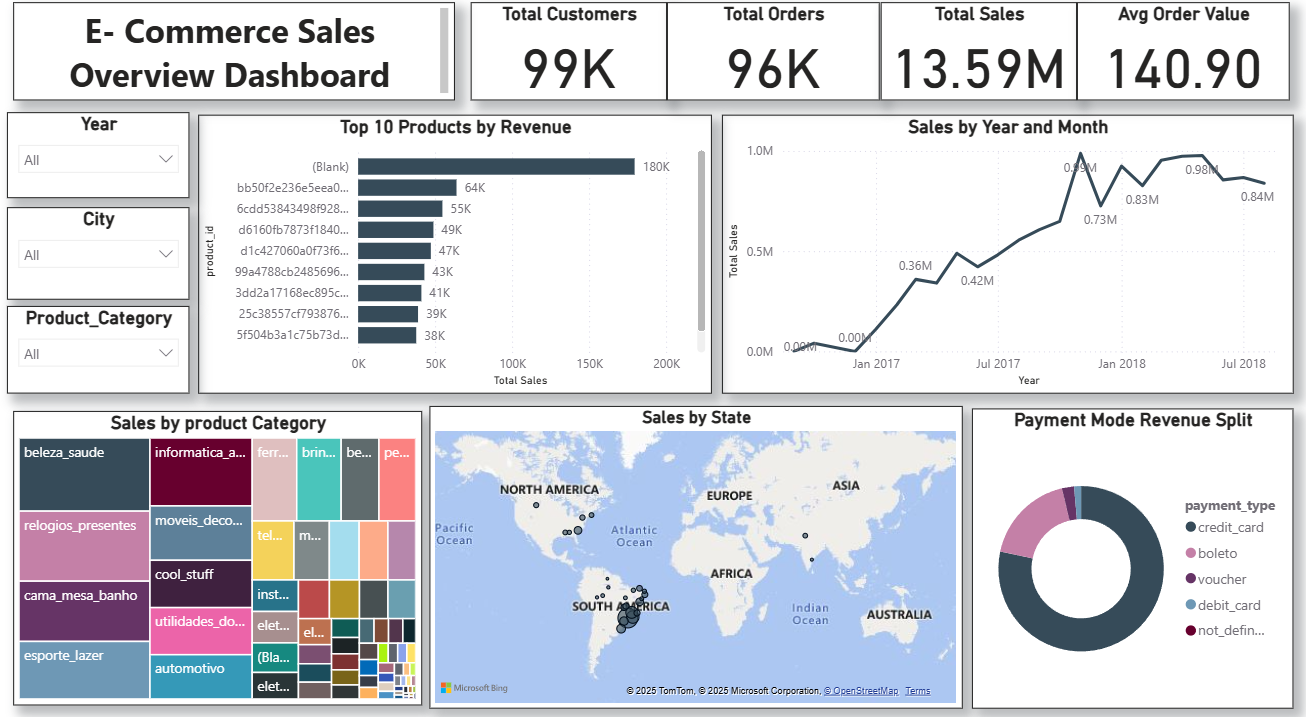

What the dashboard file says about the page in this screenshot:
{"tool":"powerbi","page":{"name":"Sales Overview","canvas":[1280,720],"ordinal":0},"visuals":[{"type":"card","title":"Total Customers","fields":{"Values":["olist_orders_dataset.Total Customers"]},"box":[464,16,192,96],"z":0},{"type":"lineChart","title":"Sales by Year and Month","fields":{"Category":["olist_orders_dataset.order_date.Variation.Date Hierarchy.Year","olist_orders_dataset.order_date.Variation.Date Hierarchy.Month"],"Y":["olist_order_items_dataset.Total Sales"]},"box":[709.2,126,558.8,272.7],"z":1000},{"type":"treemap","title":"Sales by product Category","fields":{"Group":["olist_products_dataset.product_category_name"],"Values":["olist_order_items_dataset.Total Sales"]},"box":[16,416,400,288],"z":2000},{"type":"barChart","title":"Top 10 Products by Revenue","fields":{"Category":["olist_products_dataset.product_id"],"Y":["olist_order_items_dataset.Total Sales"]},"box":[196.9,126,502.6,272.7],"z":3000},{"type":"map","title":" Sales by State","fields":{"Size":["olist_order_items_dataset.Total Sales"],"Category":["olist_geolocation_dataset.geolocation_state"]},"box":[422.6,410.3,521.4,296.4],"z":4000},{"type":"donutChart","title":"Payment Mode Revenue Split","fields":{"Category":["olist_order_payments_dataset.payment_type"],"Y":["Sum(olist_order_payments_dataset.payment_value)"]},"box":[953.8,413.3,314.3,293.5],"z":5000},{"type":"textbox","box":[16,16,432,96],"z":6000},{"type":"slicer","title":"Year","fields":{"Values":["olist_orders_dataset.Year"]},"box":[9.8,123.5,178.5,84.4],"z":7000},{"type":"slicer","title":"City","fields":{"Values":["olist_geolocation_dataset.geolocation_city"]},"box":[9.8,216.4,178.5,90.5],"z":8000},{"type":"slicer","title":"Product_Category","fields":{"Values":["olist_products_dataset.product_category_name"]},"box":[9.8,313,178.5,85.6],"z":9000},{"type":"card","title":"Total Orders","fields":{"Values":["olist_orders_dataset.Total Orders"]},"box":[656,16,208,96],"z":10000},{"type":"card","title":"Total Sales","fields":{"Values":["olist_order_items_dataset.Total Sales"]},"box":[864,16,192,96],"z":11000},{"type":"card","title":"Avg Order Value","fields":{"Values":["olist_orders_dataset.Avg Order Value"]},"box":[1056,16,208,96],"z":12000}]}

Visuals, with their boxes in screenshot pixels (x1, y1, x2, y2), scaled from the page's 1280x720 canvas onto the 1306x717 screenshot:
"Total Customers" card: [left=473, top=16, right=669, bottom=112]
"Sales by Year and Month" lineChart: [left=724, top=125, right=1294, bottom=397]
"Sales by product Category" treemap: [left=16, top=414, right=424, bottom=701]
"Top 10 Products by Revenue" barChart: [left=201, top=125, right=714, bottom=397]
" Sales by State" map: [left=431, top=409, right=963, bottom=704]
"Payment Mode Revenue Split" donutChart: [left=973, top=412, right=1294, bottom=704]
textbox: [left=16, top=16, right=457, bottom=112]
"Year" slicer: [left=10, top=123, right=192, bottom=207]
"City" slicer: [left=10, top=215, right=192, bottom=306]
"Product_Category" slicer: [left=10, top=312, right=192, bottom=397]
"Total Orders" card: [left=669, top=16, right=882, bottom=112]
"Total Sales" card: [left=882, top=16, right=1077, bottom=112]
"Avg Order Value" card: [left=1077, top=16, right=1290, bottom=112]
